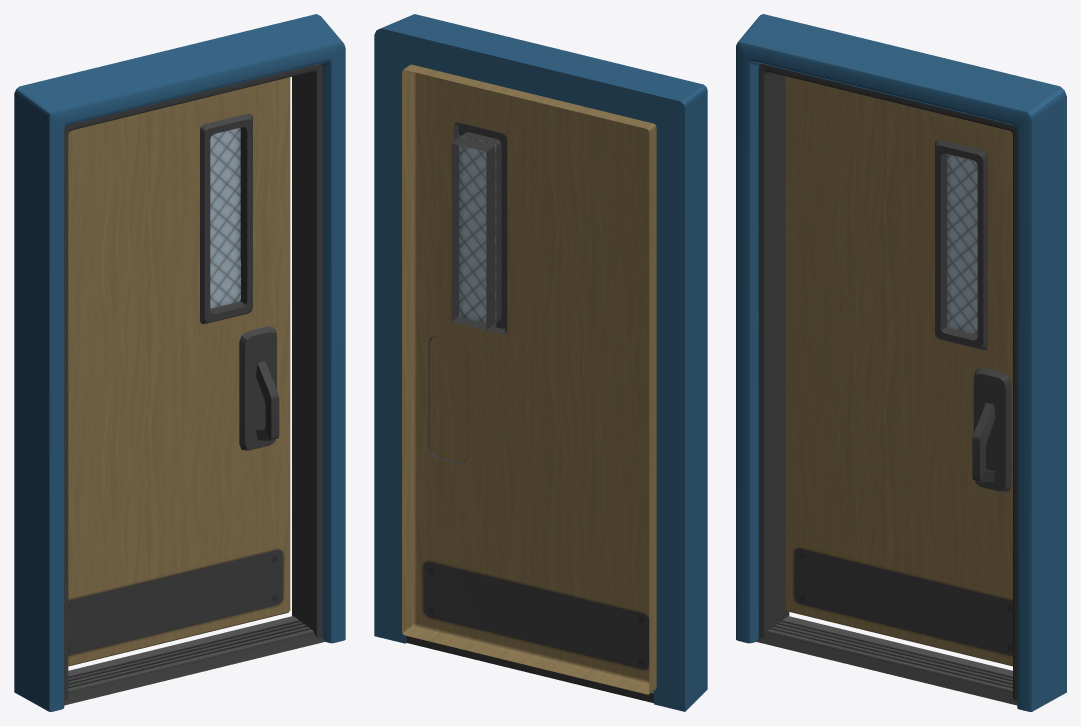
File: activity door single.glb
The picture shows the model from 3 angles, left to right: view 1: azimuth 30°, elevation 25°; view 2: azimuth 150°, elevation 25°; view 3: azimuth 330°, elevation 25°; orthographic projection.
Parts seen in each view (by area): view 1: ActivityDoor_Left, ActivityDoorSingle_Frame; view 2: ActivityDoor_Left, ActivityDoorSingle_Frame; view 3: ActivityDoor_Left, ActivityDoorSingle_Frame.
Part boxes in pixels (box(x1,y1,x2,y2)): ActivityDoor_Left: box(68, 77, 290, 666); ActivityDoorSingle_Frame: box(14, 14, 345, 711); ActivityDoor_Left: box(402, 64, 656, 694); ActivityDoorSingle_Frame: box(374, 14, 707, 711); ActivityDoor_Left: box(785, 76, 1012, 666); ActivityDoorSingle_Frame: box(736, 14, 1066, 711).
Bounding box in the file's own units: 1.15 × 2.14 × 0.2348.
Materials: 2 (2 with a texture image).
